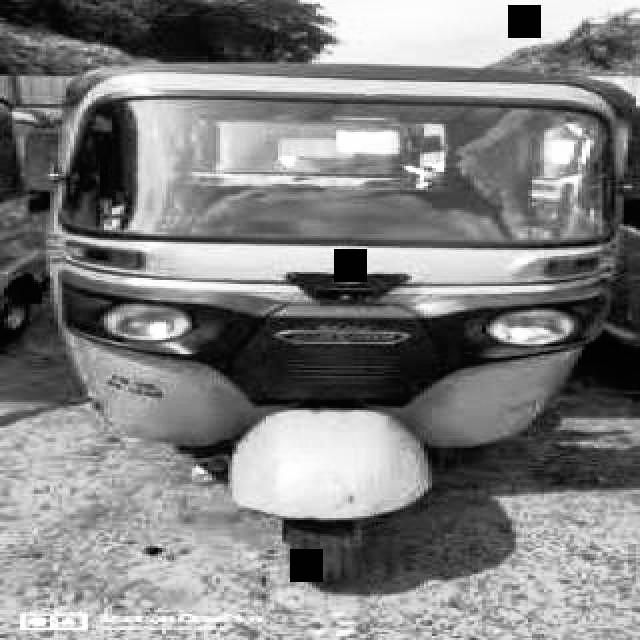Auto-Rickshaw: (42, 48, 640, 606)
